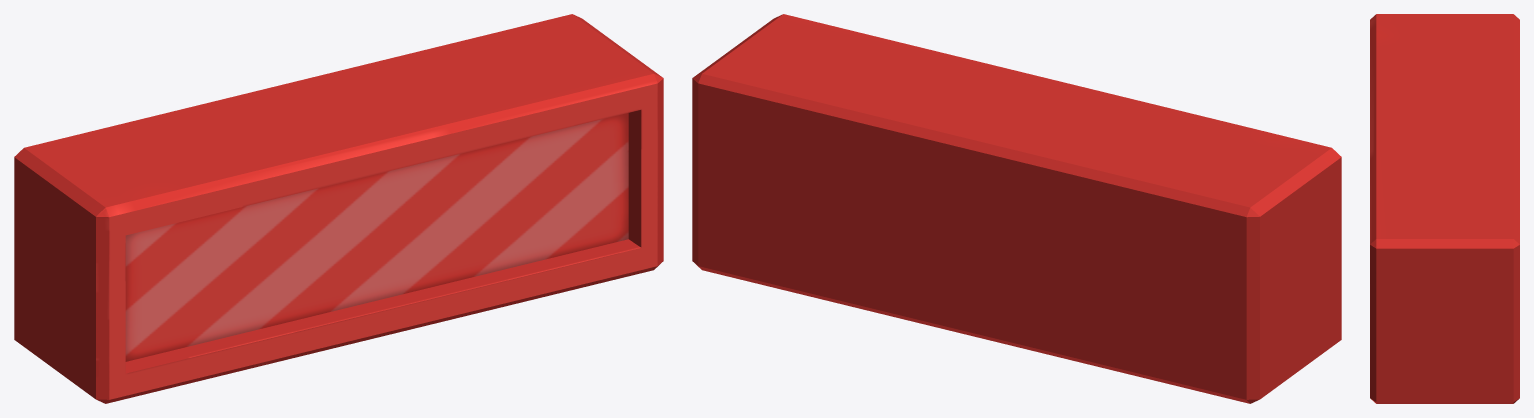
File: 61_ELM_RedTriggerRectangleGlass.fbx
3 renders of one model, left to right at view 1: azimuth 30°, elevation 25°; view 2: azimuth 150°, elevation 25°; view 3: azimuth 270°, elevation 25°, orthographic. The views are drawn at different scales.
Visible parts, largest first — view 1: Red_trigger_RectangleGlass; view 2: Red_trigger_RectangleGlass; view 3: Red_trigger_RectangleGlass.
Part boxes in pixels (x1,y1,x2,y2): Red_trigger_RectangleGlass: [14, 14, 663, 403]; Red_trigger_RectangleGlass: [692, 14, 1341, 403]; Red_trigger_RectangleGlass: [1370, 14, 1519, 403].
Size of the model in its own units: 5.21 by 1.72 by 1.42.
Materials: 1 (1 with a texture image).
